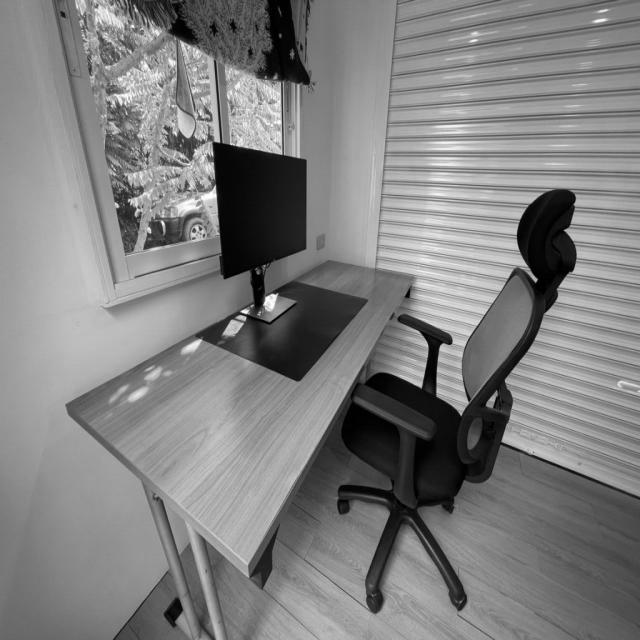table: (39, 248, 430, 572)
